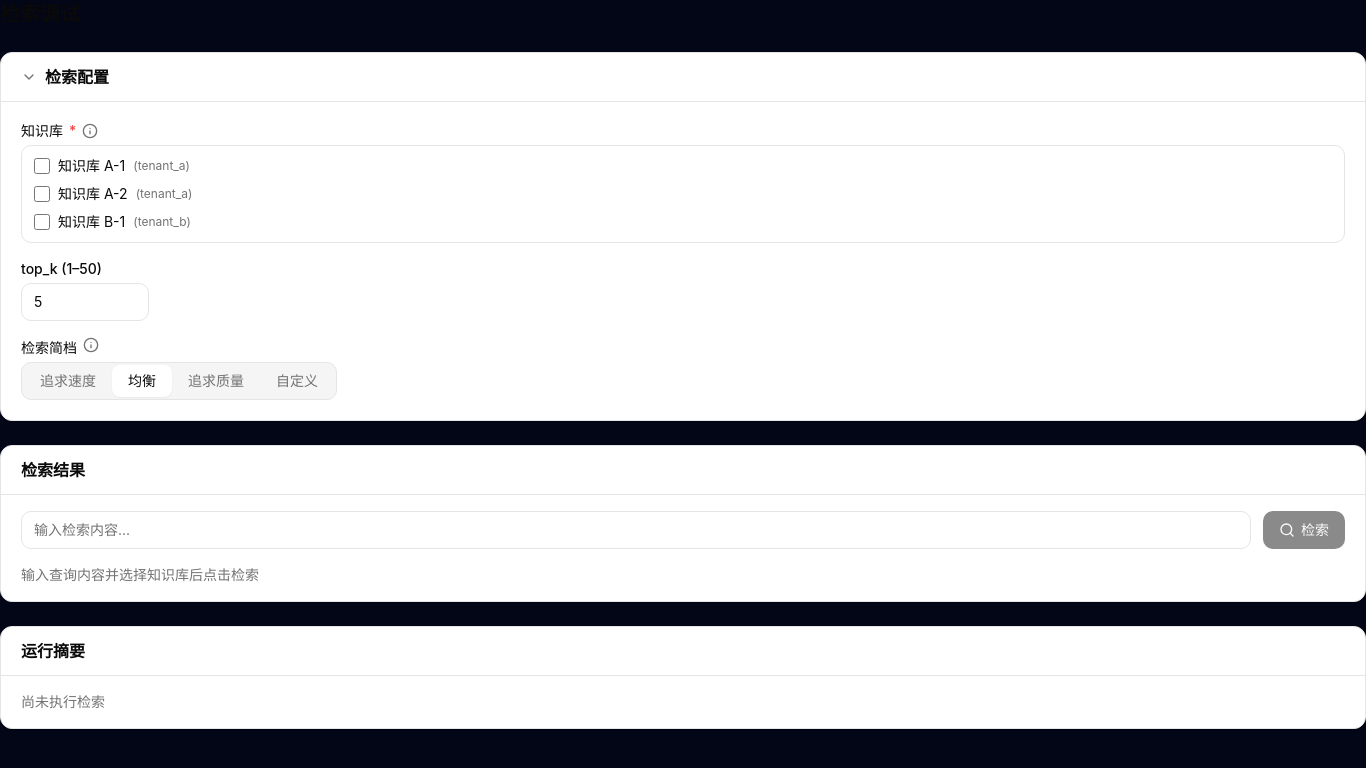
Test case: RetrievePage › 检索成功后应显示运行摘要 meta 信息
Step 1. Click the checkbox labelled "知识库 A-1" → [42, 166], box [34,158,50,174]
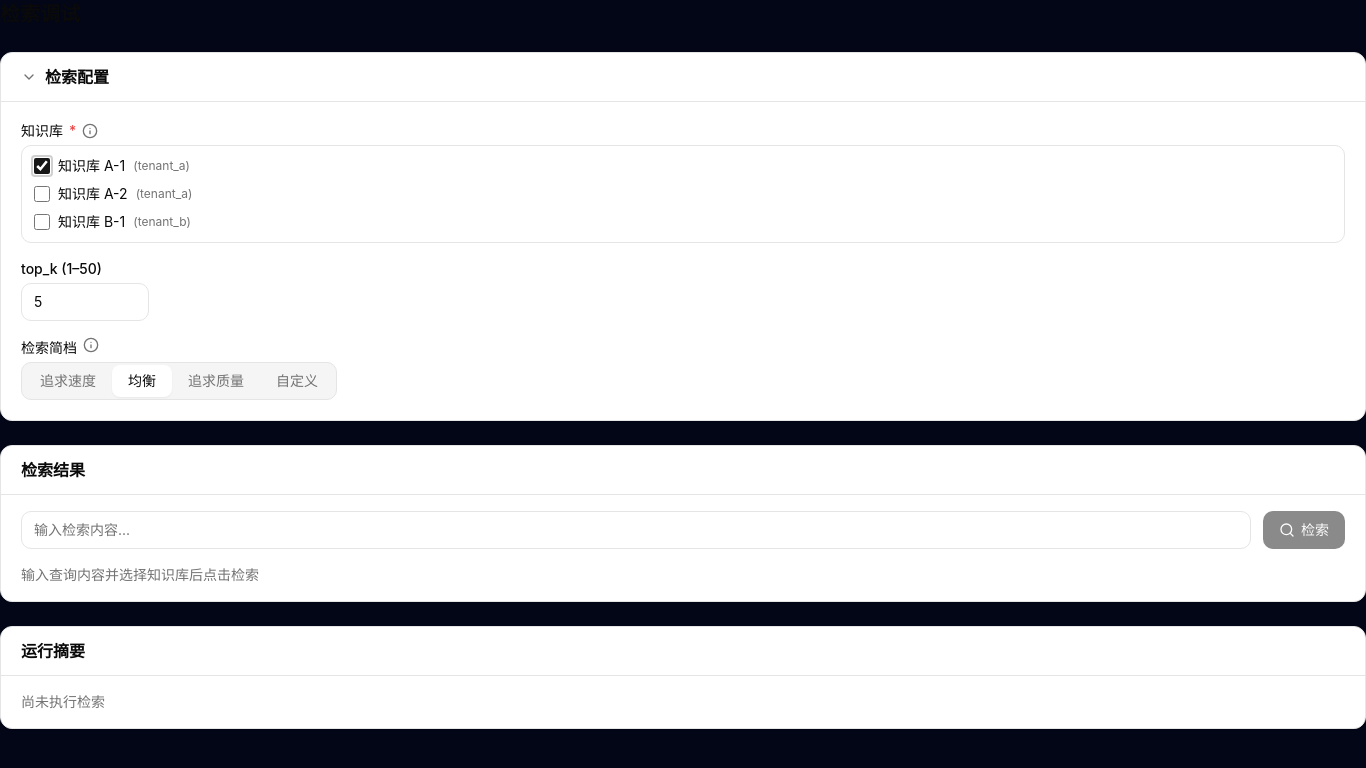
Step 2. Type "test" into the field with placeholder "输入检索内容..." → [636, 530], box [21,511,1251,549]
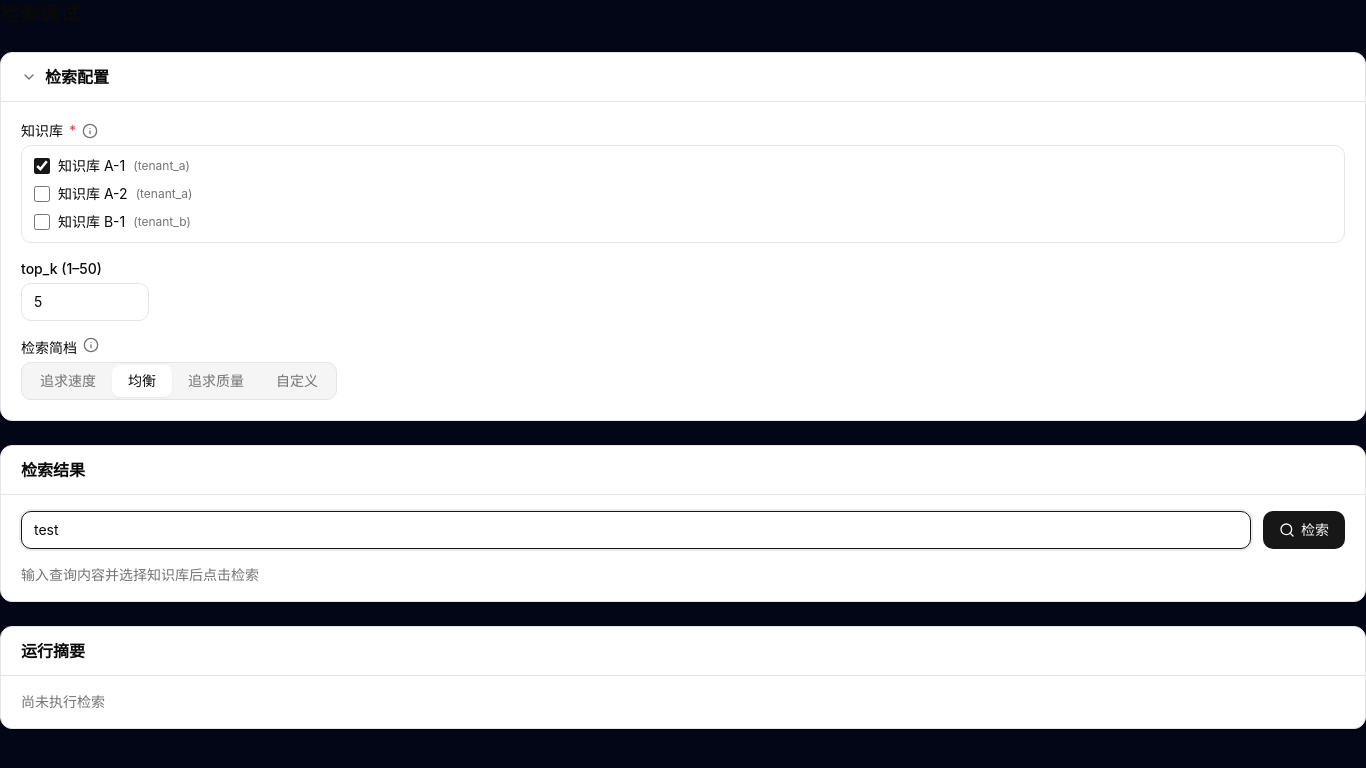
Step 3. Click the button "检索" → [1304, 530], box [1263,511,1345,549]
(page scrolled)
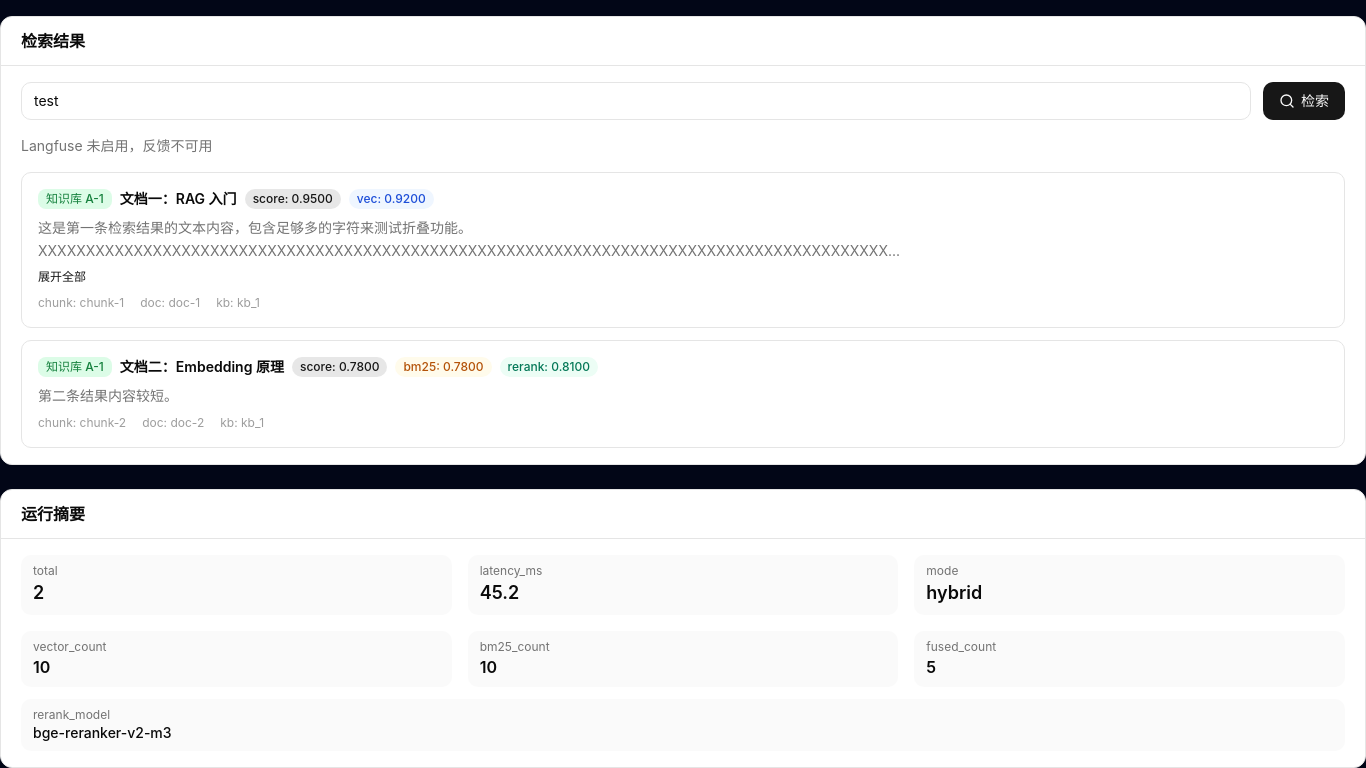
Check: the text "2" is shown, box [33,582,44,603]
Check: the text "45.2" is shown, box [480,582,519,603]
